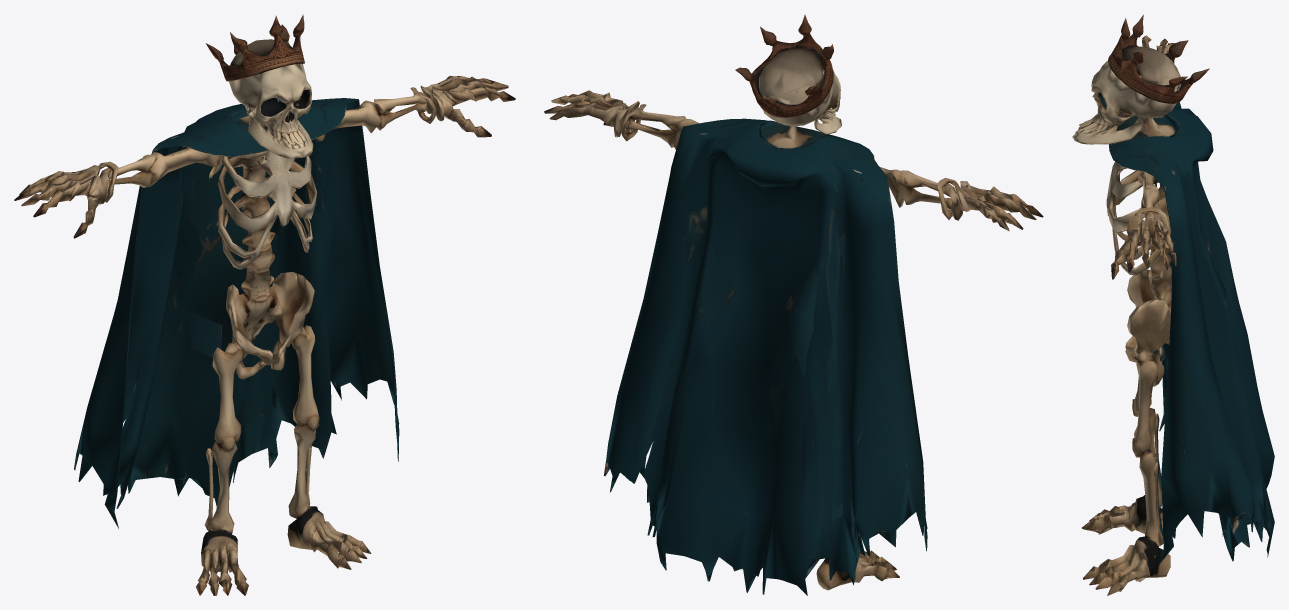
Rendered from Necromancer.fbx.
3 views of the same model, side by side, from view 1: azimuth 30°, elevation 25°; view 2: azimuth 150°, elevation 25°; view 3: azimuth 270°, elevation 25° (orthographic). The views are drawn at different scales.
Visible parts, largest first — view 1: Mesh_0; view 2: Mesh_0; view 3: Mesh_0.
Boxes of the visible parts, bbox=[...] form: Mesh_0: bbox=[14, 14, 515, 595]; Mesh_0: bbox=[544, 14, 1043, 595]; Mesh_0: bbox=[1072, 14, 1274, 595].
Bounding box in the file's own units: 87.64 × 95.33 × 32.44.
Materials: 1 (1 with a texture image).
